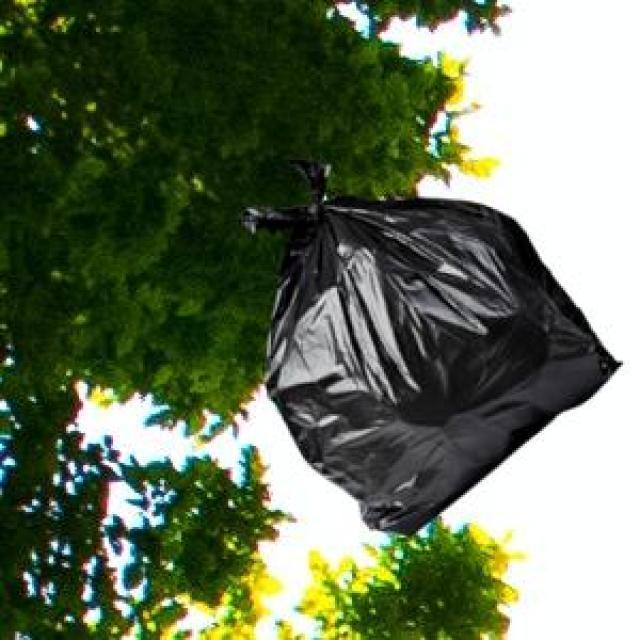waste: (268, 199, 619, 532)
